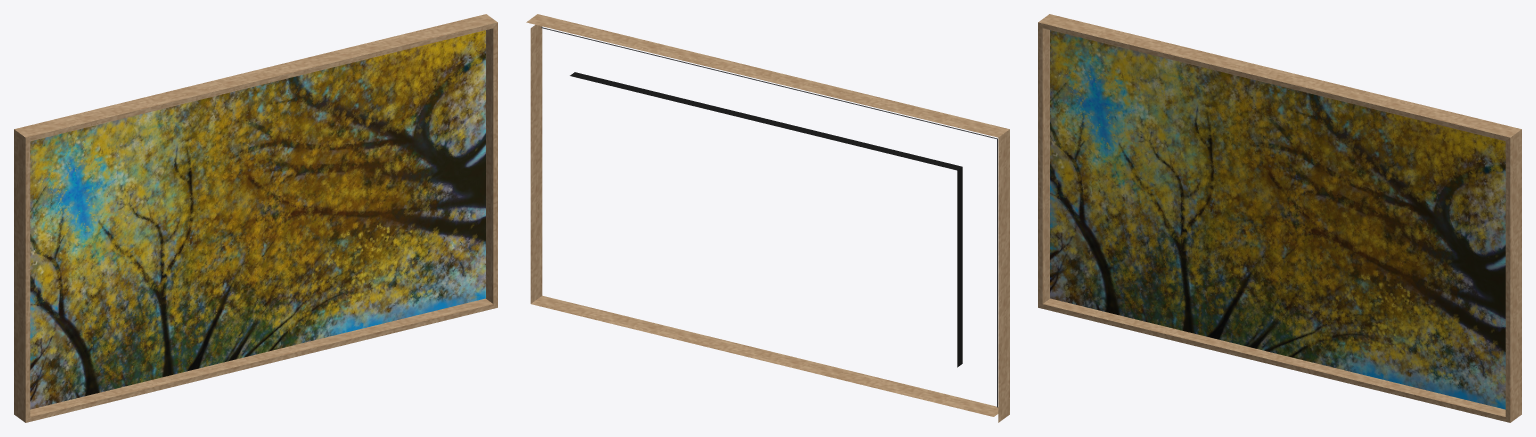
The model's file is hz042_moyen_caisse-chene.glb.
The picture shows the model from 3 angles, left to right: view 1: azimuth 30°, elevation 25°; view 2: azimuth 150°, elevation 25°; view 3: azimuth 330°, elevation 25°; orthographic projection.
Parts seen in each view (by area): view 1: hz042_moyen_caisse-chene; view 2: hz042_moyen_caisse-chene; view 3: hz042_moyen_caisse-chene.
Part boxes in pixels (<box>): hz042_moyen_caisse-chene: <box>14,14,497,422</box>; hz042_moyen_caisse-chene: <box>526,14,1009,422</box>; hz042_moyen_caisse-chene: <box>1038,14,1521,422</box>.
Bounding box in the file's own units: 0.828 × 0.478 × 0.035.
4 materials, 2 textured.
